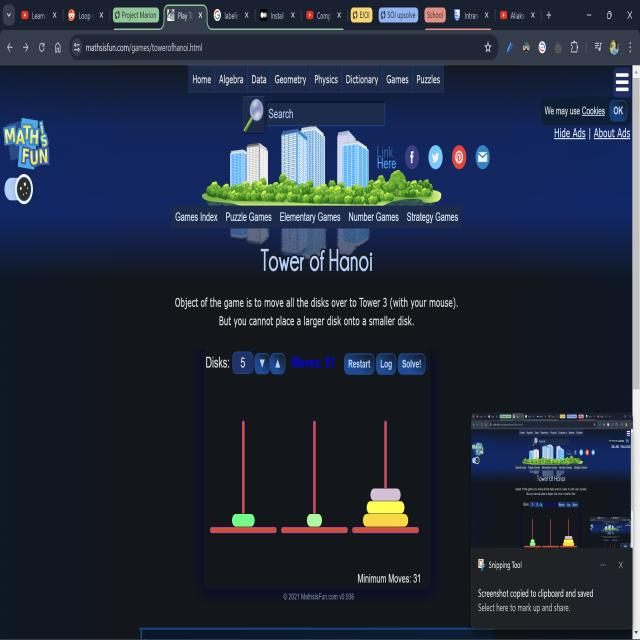disk1: (307, 514, 322, 527)
disk2: (232, 514, 254, 527)
disk3: (370, 488, 401, 501)
disk4: (366, 501, 404, 514)
disk5: (362, 513, 408, 526)
